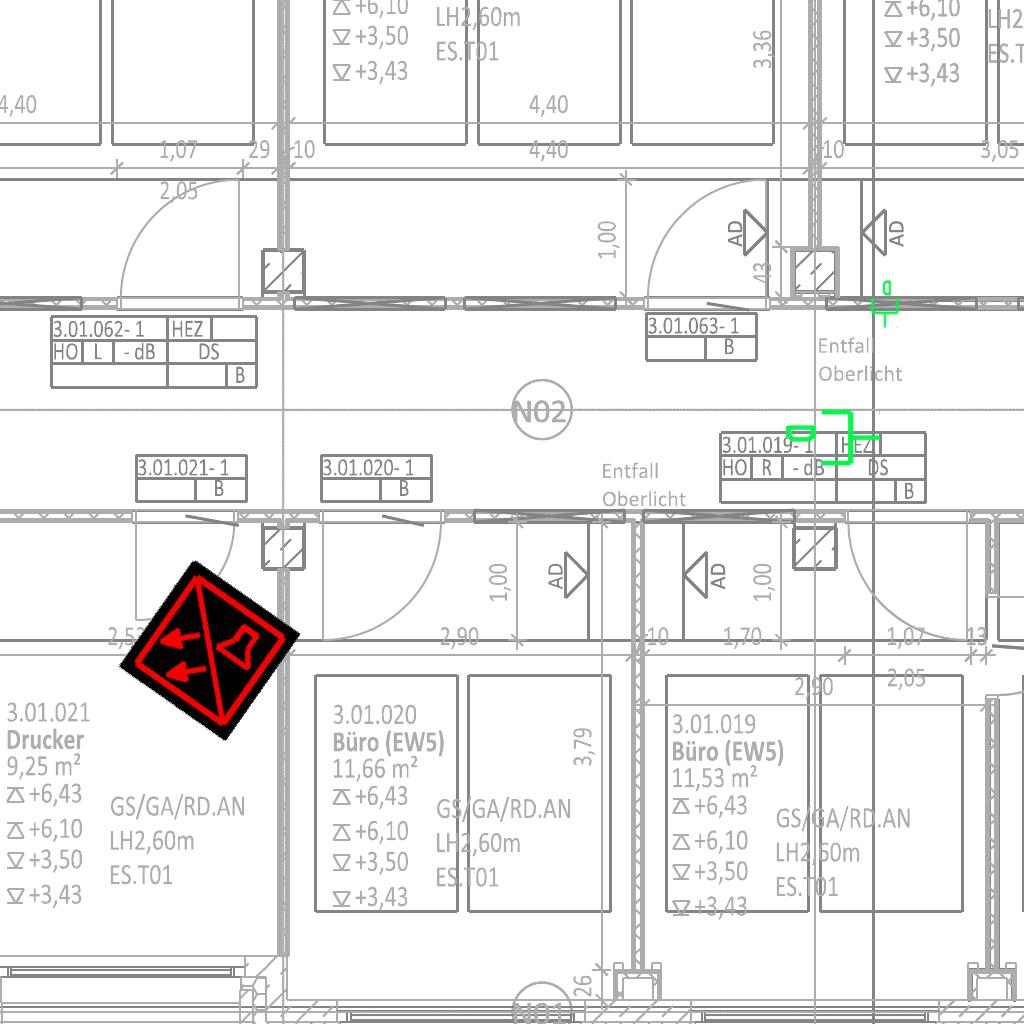Datenanschluss_einfach: (783, 405, 883, 474), (867, 279, 901, 329)
OKW_Multisensormelder_(Kombination_optischer_Rauch-Kahlenmonoxid_Waerme-Melder): (117, 558, 301, 742)
